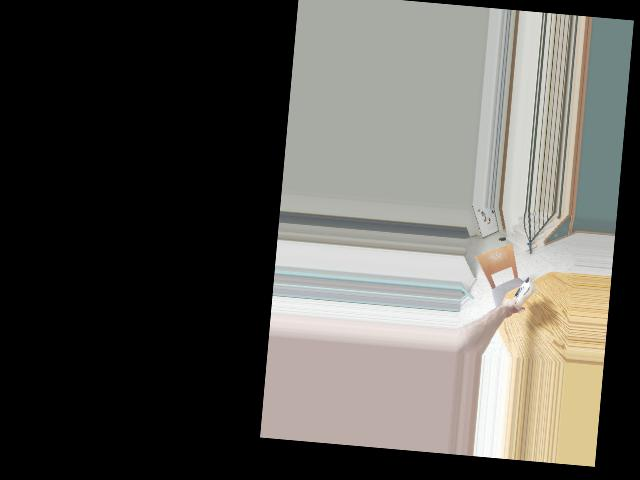cheese: (510, 275, 537, 311)
